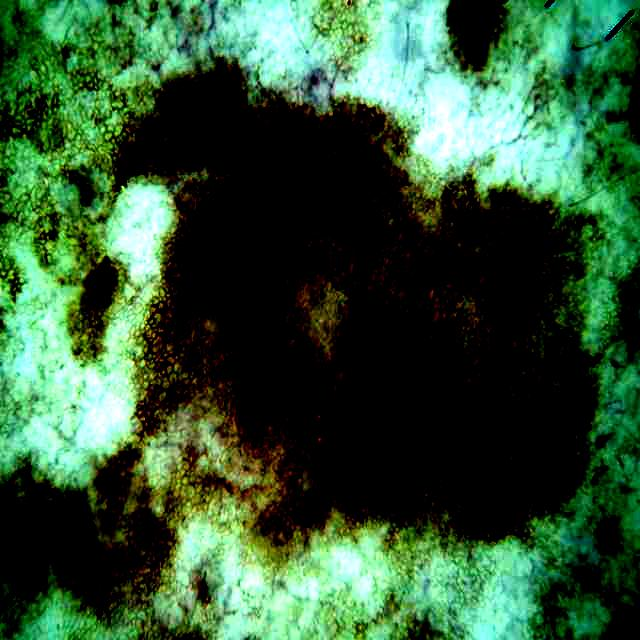NV: (91, 67, 596, 563)
